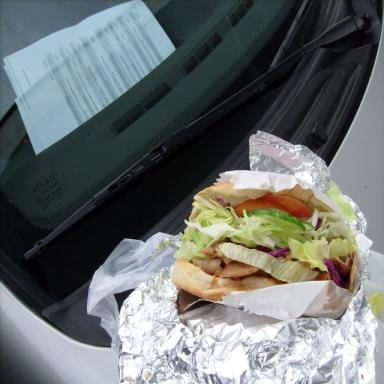plasticbag: (85, 228, 383, 383)
